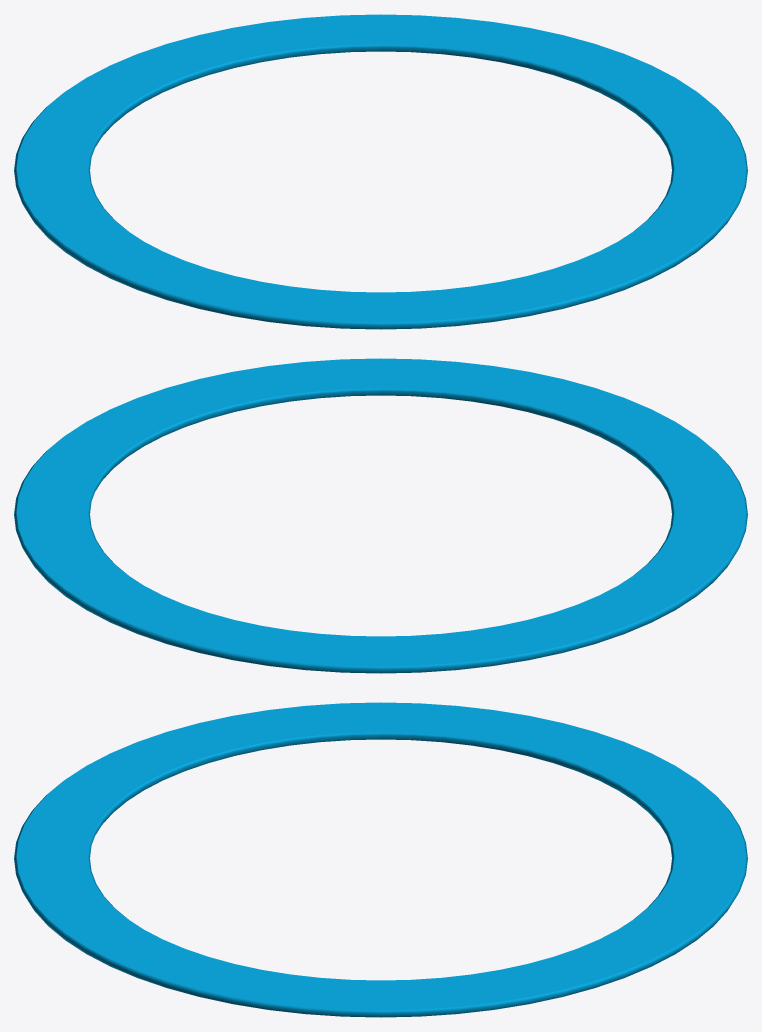
Rendered from Cylindre_Volume_02.fbx.
The picture shows the model from 3 angles, top to bottom: view 1: azimuth 30°, elevation 25°; view 2: azimuth 150°, elevation 25°; view 3: azimuth 270°, elevation 25°; orthographic projection.
Visible parts, largest first — view 1: Cylindre_Volume_02; view 2: Cylindre_Volume_02; view 3: Cylindre_Volume_02.
Boxes of the visible parts, box(x1,y1,x2,y2) form: Cylindre_Volume_02: box(14, 14, 747, 329); Cylindre_Volume_02: box(14, 358, 747, 673); Cylindre_Volume_02: box(14, 702, 747, 1017).
Bounding box in the file's own units: 116 × 1.23 × 116.
